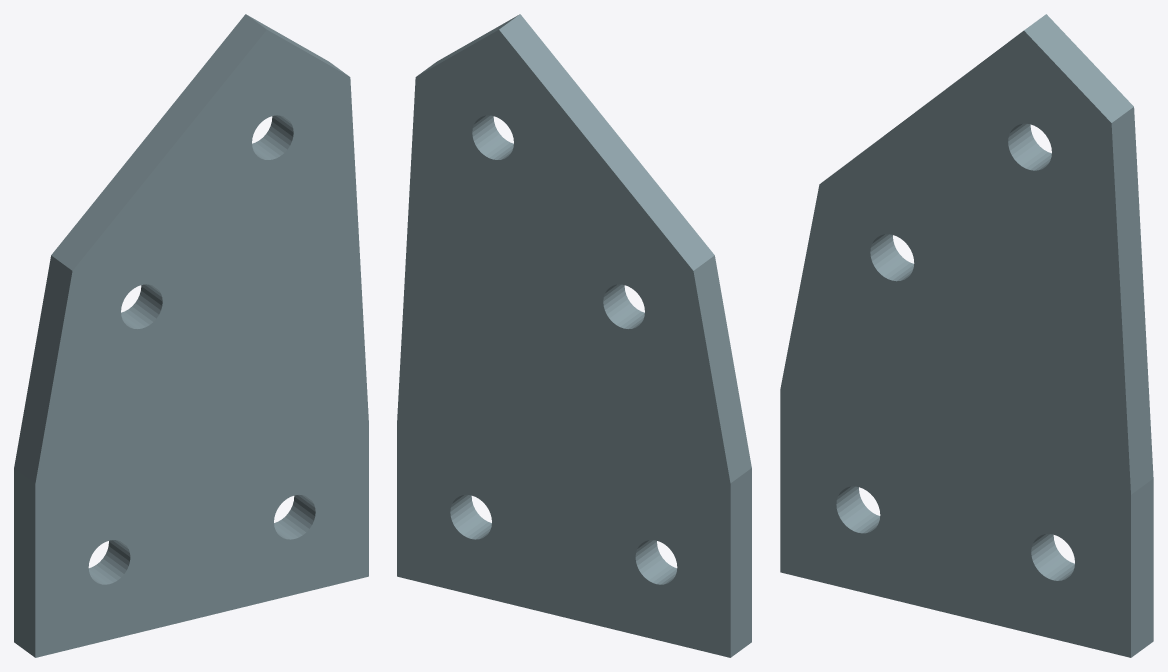
The model's file is teaching-plate-45.glb.
3 renders of one model, left to right at view 1: azimuth 30°, elevation 25°; view 2: azimuth 150°, elevation 25°; view 3: azimuth 330°, elevation 25°, orthographic. The views are drawn at different scales.
Visible parts, largest first — view 1: TeachingPlate45; view 2: TeachingPlate45; view 3: TeachingPlate45.
Boxes of the visible parts, box(x1,y1,x2,y2) form: TeachingPlate45: box(14, 14, 368, 657); TeachingPlate45: box(397, 14, 751, 657); TeachingPlate45: box(780, 14, 1153, 657).
Size of the model in its own units: 0.036 by 0.059 by 0.004.
